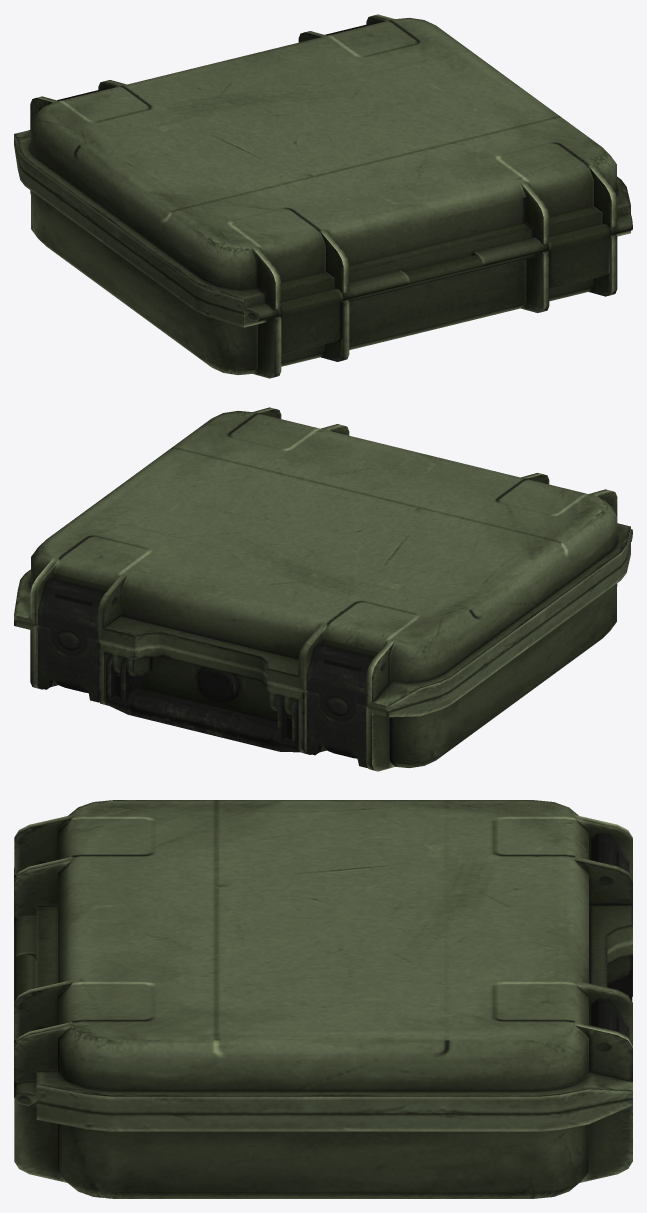
The model's file is FirearmsCache.fbx.
3 views of the same model, one above another, from view 1: azimuth 30°, elevation 25°; view 2: azimuth 150°, elevation 25°; view 3: azimuth 270°, elevation 25° (orthographic). The views are drawn at different scales.
Parts seen in each view (by area): view 1: PistolCase; view 2: PistolCase; view 3: PistolCase.
Boxes of the visible parts, box(x1,y1,x2,y2) form: PistolCase: box(14, 14, 632, 378); PistolCase: box(14, 407, 632, 771); PistolCase: box(14, 800, 632, 1198).
Bounding box in the file's own units: 0.1664 × 0.0476 × 0.1661.
